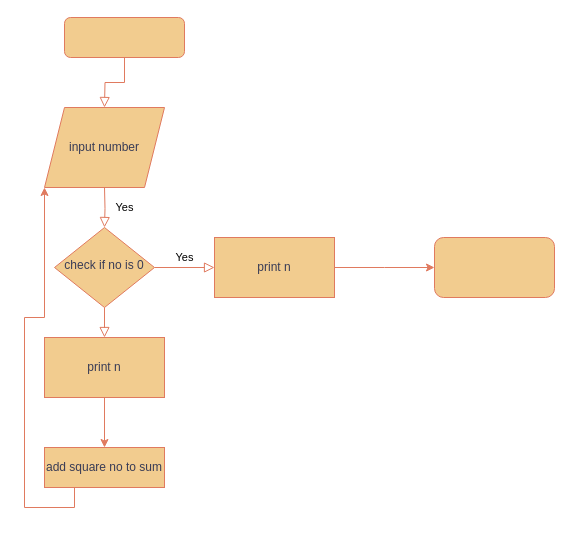
Image size: 572x533. Some labels were removed from this diagram. Here are the shapes that lost their labels. From the top down, the centre of each, then its label:
At [124,37]: "start initialize sum to 0".
At [494,267]: "output sum".
